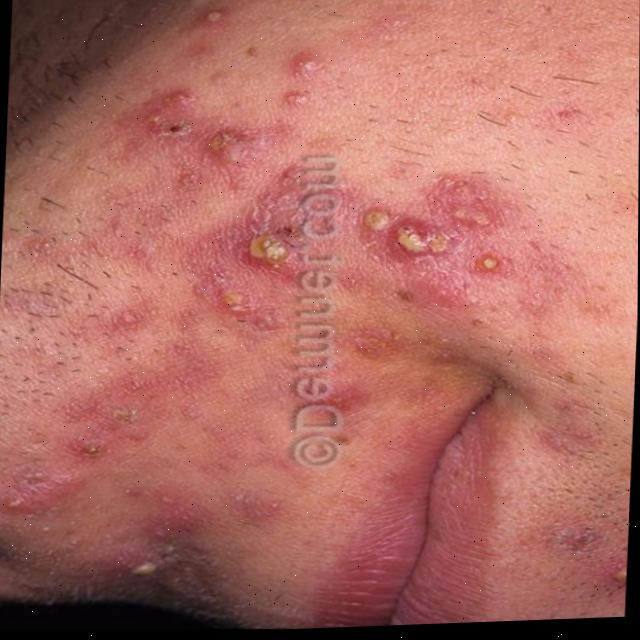Acne: (60, 0, 640, 612)
